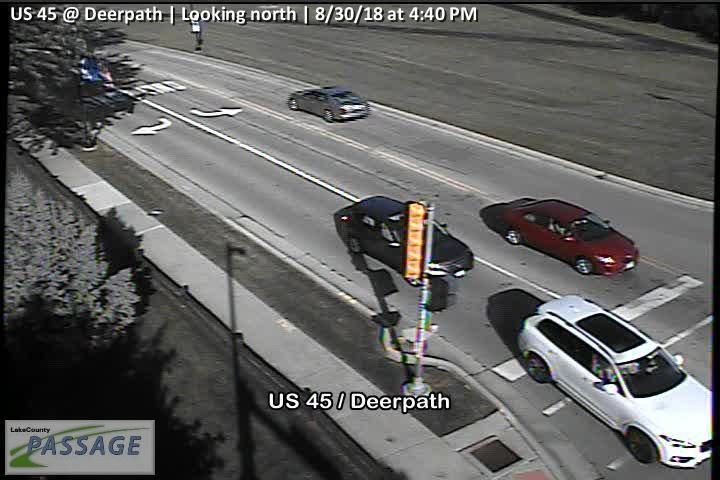SUV: (516, 293, 720, 470)
Sedan: (332, 194, 476, 288), (495, 196, 641, 278), (286, 84, 370, 124)
